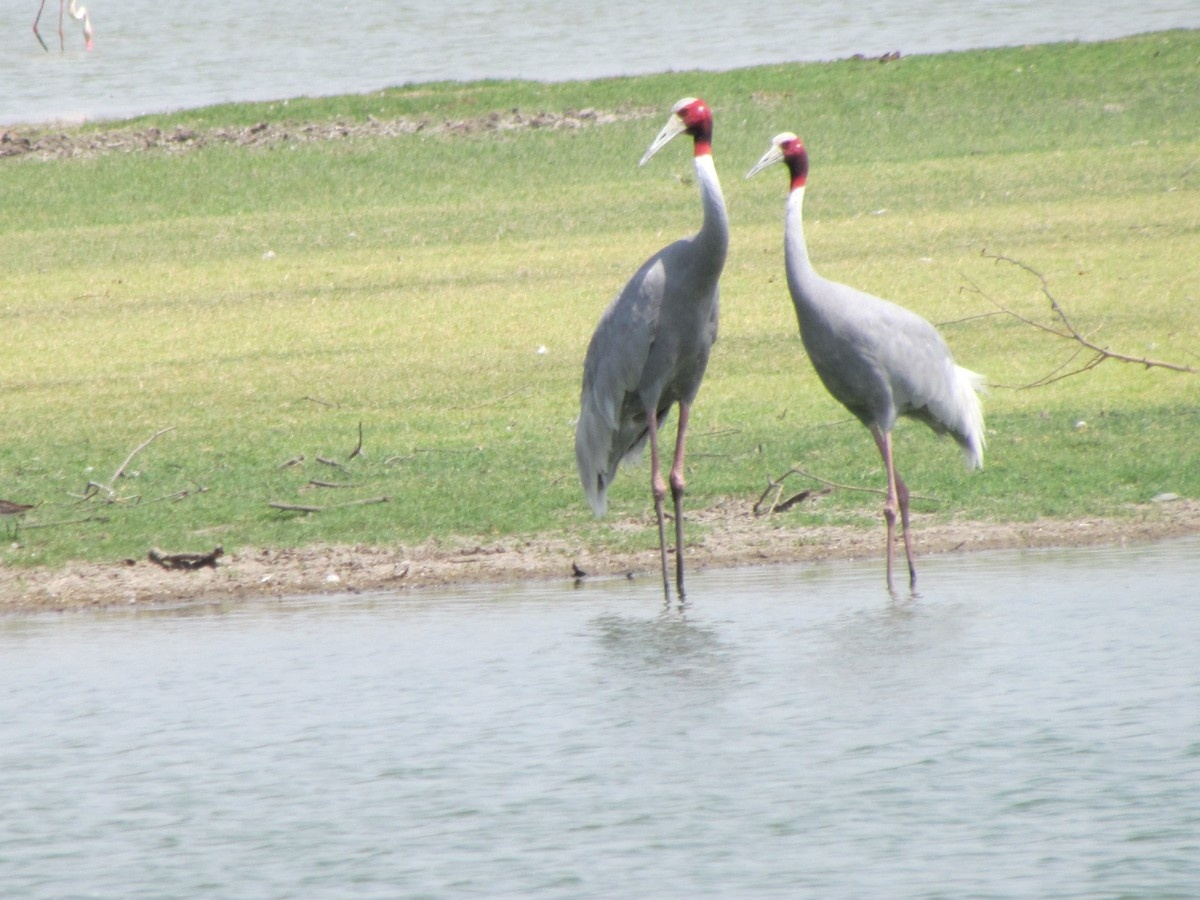crane: (741, 128, 1002, 587), (580, 94, 737, 575)
